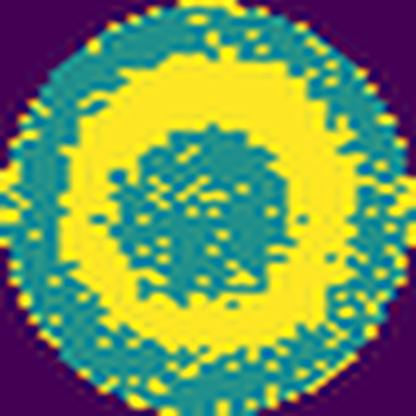Donut: (46, 46, 372, 366)
